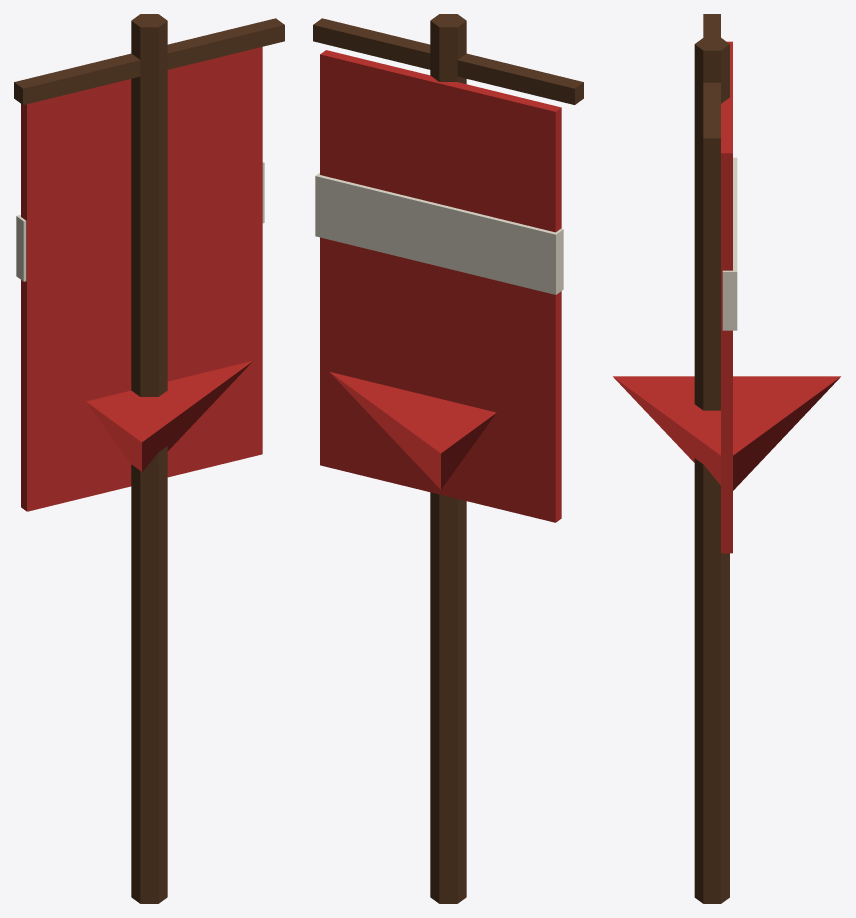
File: PR_Banner.fbx
The picture shows the model from 3 angles, left to right: view 1: azimuth 30°, elevation 25°; view 2: azimuth 150°, elevation 25°; view 3: azimuth 270°, elevation 25°; orthographic projection. The views are drawn at different scales.
Visible parts, largest first — view 1: PR_Banner; view 2: PR_Banner; view 3: PR_Banner.
Part boxes in pixels (bbox=[...]): PR_Banner: bbox=[14, 14, 284, 903]; PR_Banner: bbox=[313, 14, 583, 903]; PR_Banner: bbox=[613, 14, 840, 903].
Size of the model in its own units: 1 by 0.7794 by 3.2.
